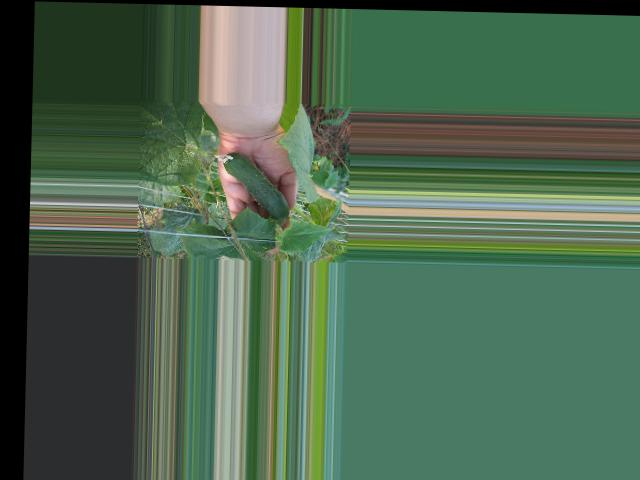cucumber: (212, 151, 289, 220)
